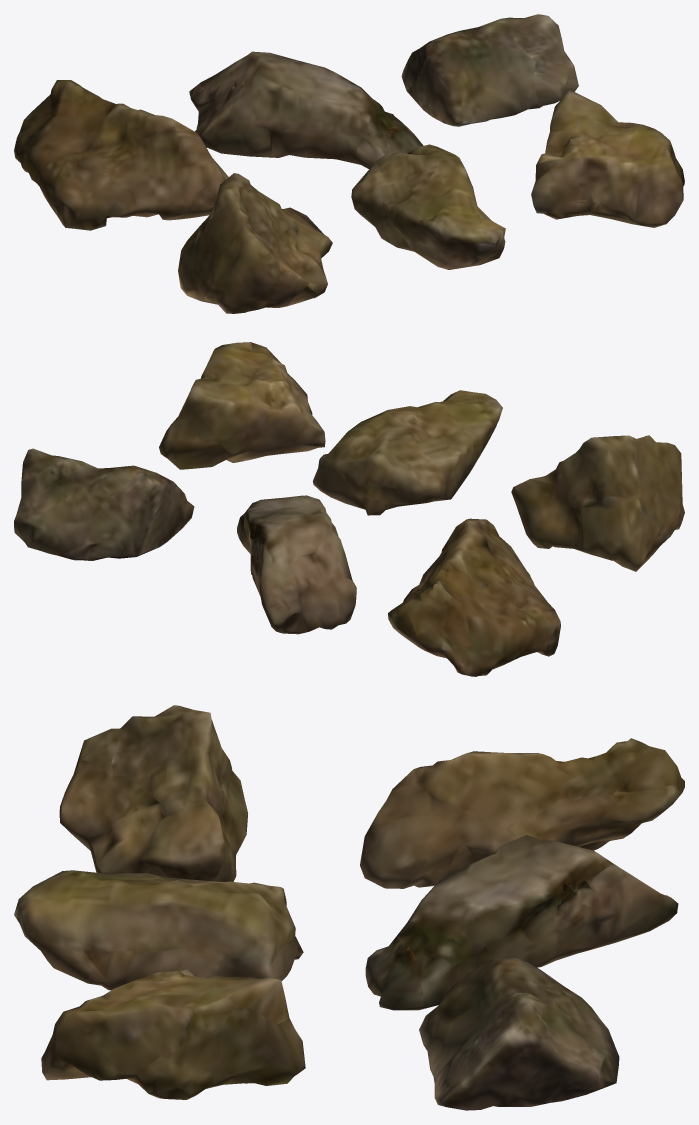
File: rocks-moss-01.lite.c1b4494c.glb
3 views of the same model, one above another, from view 1: azimuth 30°, elevation 25°; view 2: azimuth 150°, elevation 25°; view 3: azimuth 270°, elevation 25° (orthographic). The views are drawn at different scales.
Visible parts, largest first — view 1: model; view 2: model; view 3: model.
Part boxes in pixels (x1,y1,x2,y2): model: (14, 14, 684, 313); model: (14, 342, 684, 676); model: (14, 705, 684, 1110).
Size of the model in its own units: 8 by 1.76 by 6.94.
Materials: 1 (1 with a texture image).
